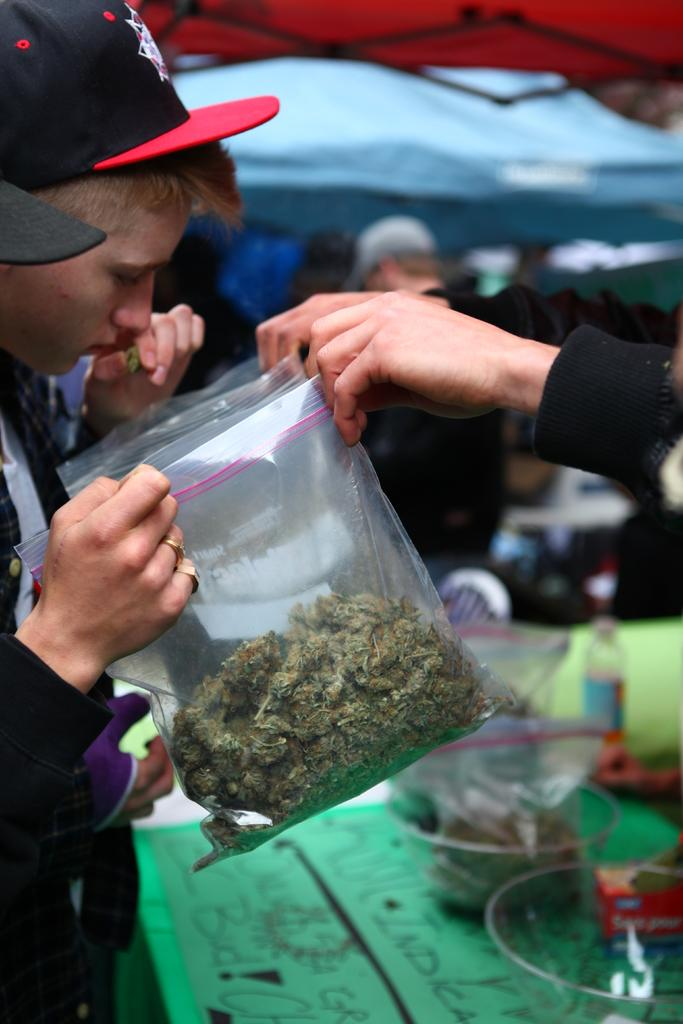Hat: (0, 0, 285, 197), (0, 174, 110, 272), (341, 218, 434, 294)
